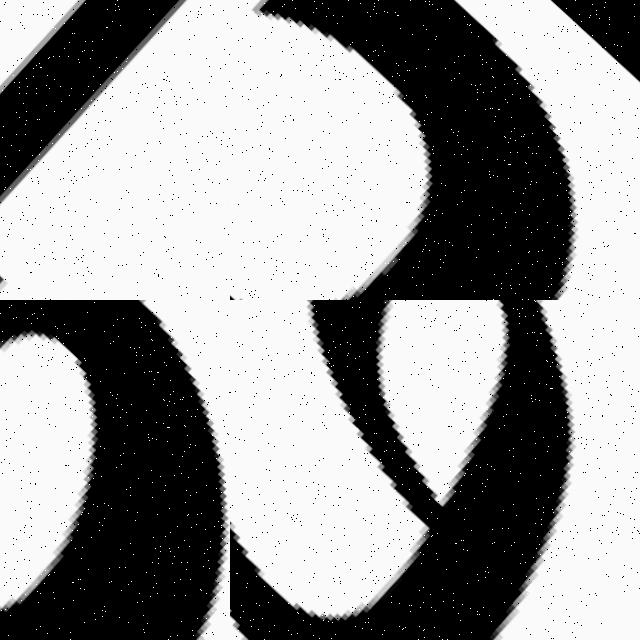C: (250, 0, 571, 300), (0, 300, 230, 640)
E: (230, 300, 569, 640)
L: (0, 0, 230, 300)
